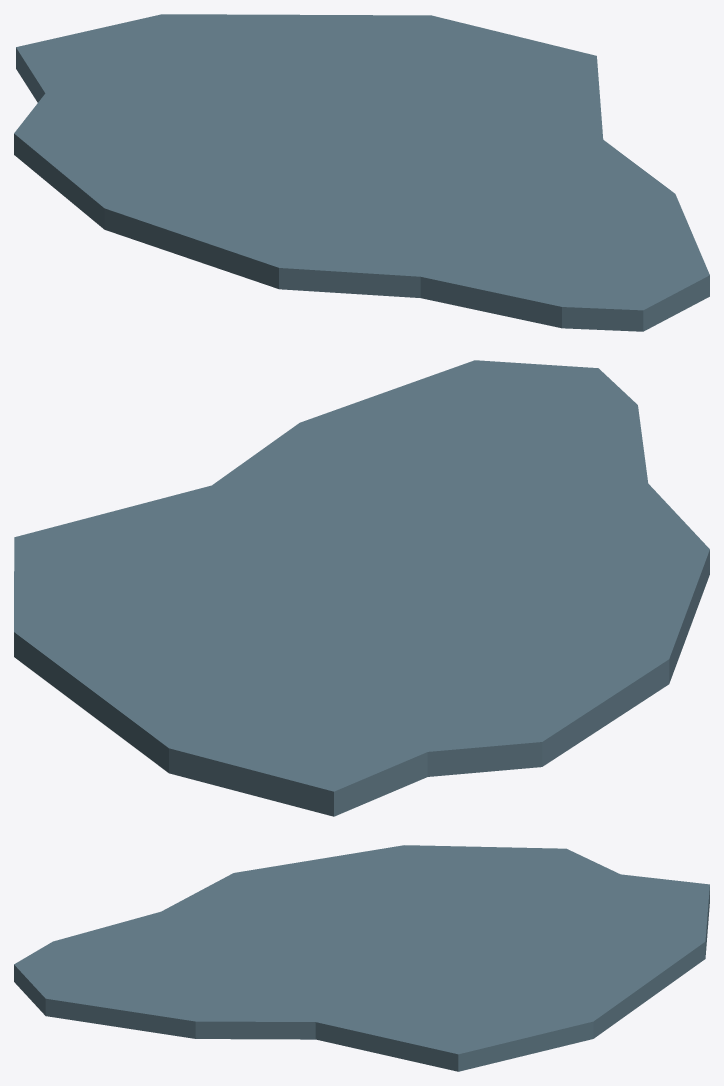
File: RH_Ground05.fbx
The picture shows the model from 3 angles, top to bottom: view 1: azimuth 30°, elevation 25°; view 2: azimuth 150°, elevation 25°; view 3: azimuth 270°, elevation 25°; orthographic projection. The views are drawn at different scales.
Parts seen in each view (by area): view 1: RH_Ground05; view 2: RH_Ground05; view 3: RH_Ground05.
Part boxes in pixels (x1,y1,x2,y2): RH_Ground05: (14, 14, 709, 331); RH_Ground05: (14, 360, 709, 816); RH_Ground05: (14, 845, 709, 1071).
Bounding box in the file's own units: 257 × 10 × 361.
Materials: 1 (1 with a texture image).
